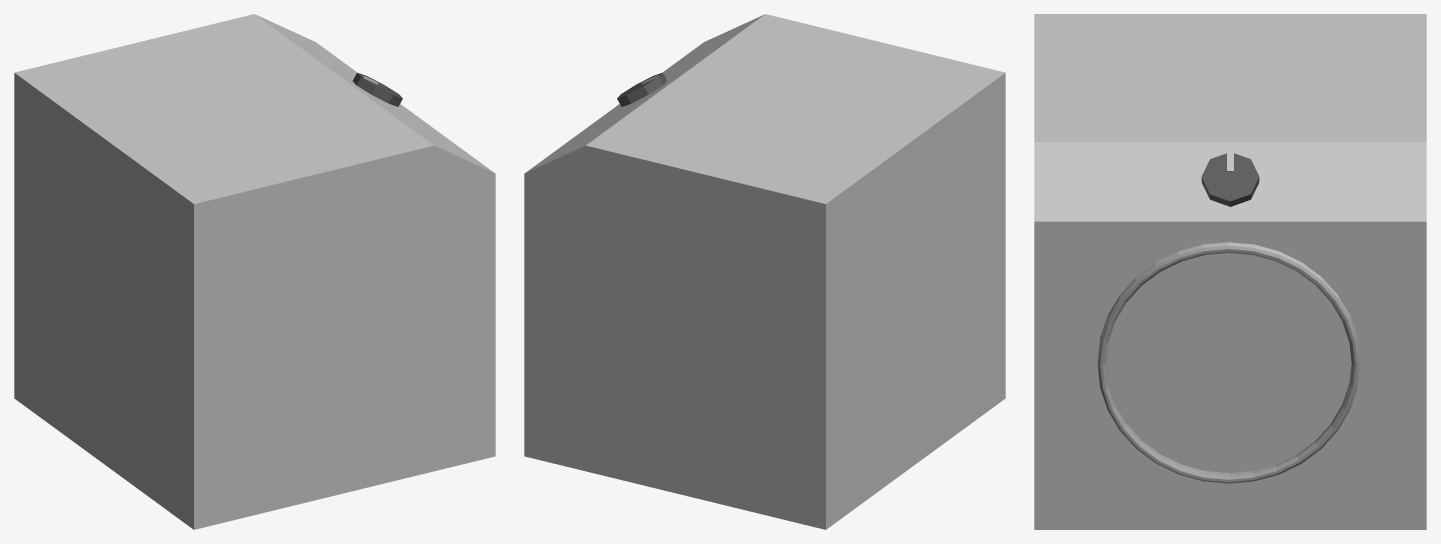
The model's file is dryer textured.fbx.
The picture shows the model from 3 angles, left to right: view 1: azimuth 30°, elevation 25°; view 2: azimuth 150°, elevation 25°; view 3: azimuth 270°, elevation 25°; orthographic projection. The views are drawn at different scales.
Parts seen in each view (by area): view 1: dryer left, dryer back, dryer top, dial; view 2: dryer right, dryer back, dryer top, dial; view 3: dryer top, Door.002, dryer right, dryer left, dryer bottom, dial.
Boxes of the visible parts, <box> form: dryer left: <box>194,145,495,529</box>; dryer back: <box>14,73,193,529</box>; dryer top: <box>14,14,494,203</box>; dial: <box>352,72,402,106</box>; dryer right: <box>524,145,825,529</box>; dryer back: <box>826,73,1005,529</box>; dryer top: <box>525,14,1005,203</box>; dial: <box>617,72,667,106</box>; dryer top: <box>1034,14,1426,276</box>; Door.002: <box>1097,242,1360,483</box>; dryer right: <box>1322,222,1426,529</box>; dryer left: <box>1034,222,1135,529</box>; dryer bottom: <box>1035,447,1425,529</box>; dial: <box>1201,151,1259,206</box>.
Bounding box in the file's own units: 1771 × 1780 × 1779.
